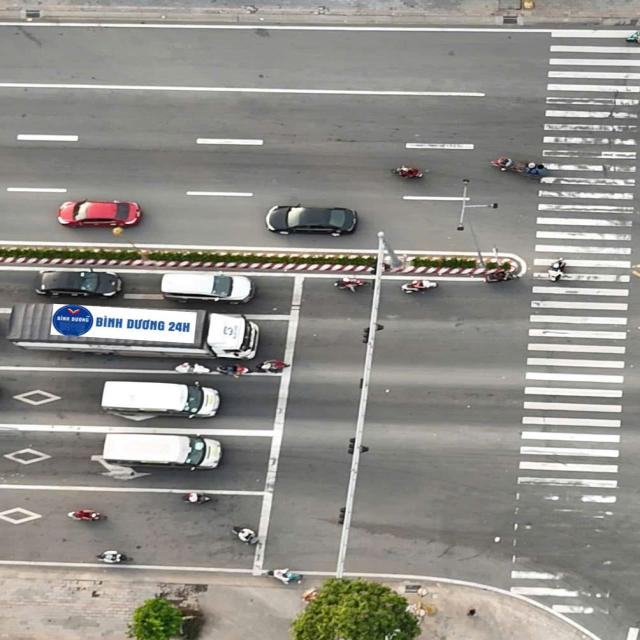Dump Truck: (12, 301, 260, 358)
car: (100, 434, 229, 471), (95, 380, 218, 414), (257, 203, 360, 236), (159, 274, 263, 306), (50, 200, 142, 228), (30, 270, 121, 298)
motobyte: (481, 262, 527, 284), (165, 358, 211, 377), (226, 525, 265, 546), (261, 569, 305, 584), (206, 362, 252, 376), (518, 160, 550, 180), (67, 509, 109, 524), (333, 278, 364, 295), (396, 280, 439, 292), (390, 163, 424, 178), (91, 552, 130, 564), (180, 490, 213, 504), (259, 363, 293, 375), (488, 155, 516, 169)
